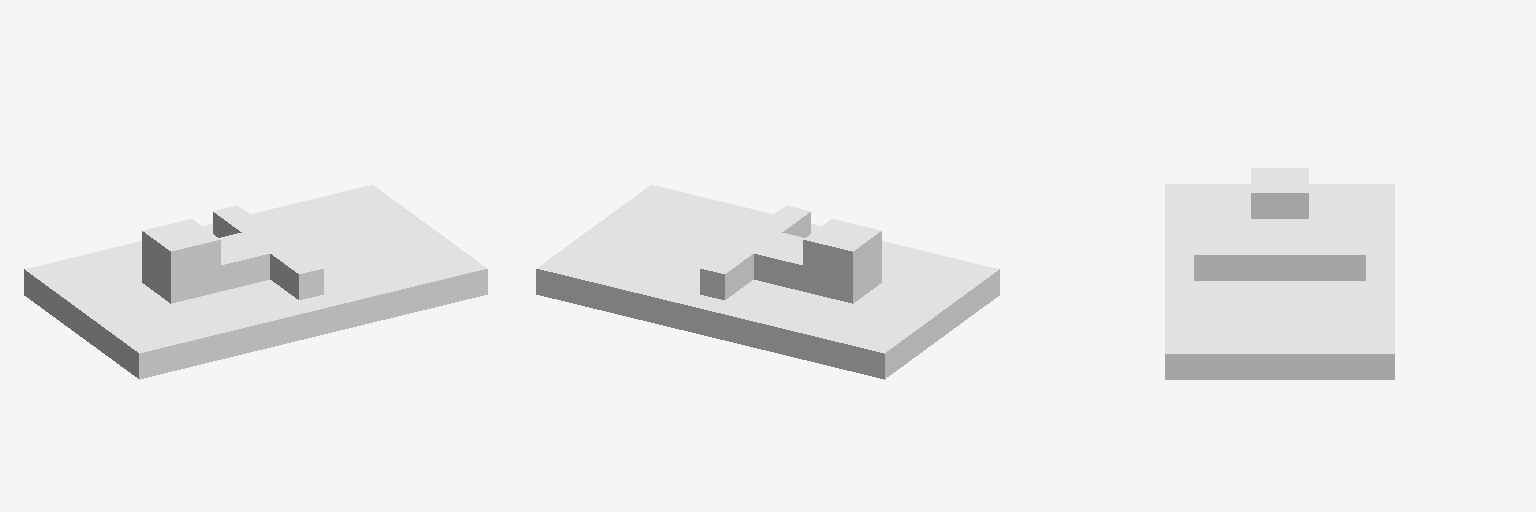
The model's file is mousetrap-base.obj.
3 renders of one model, left to right at view 1: azimuth 30°, elevation 25°; view 2: azimuth 150°, elevation 25°; view 3: azimuth 270°, elevation 25°, orthographic.
Visible parts, largest first — view 1: object 1; view 2: object 1; view 3: object 1.
Part boxes in pixels (bbox=[...]): object 1: bbox=[24, 185, 487, 379]; object 1: bbox=[536, 185, 999, 379]; object 1: bbox=[1165, 168, 1394, 379].
Size of the model in its own units: 1.4 by 0.3 by 0.8.